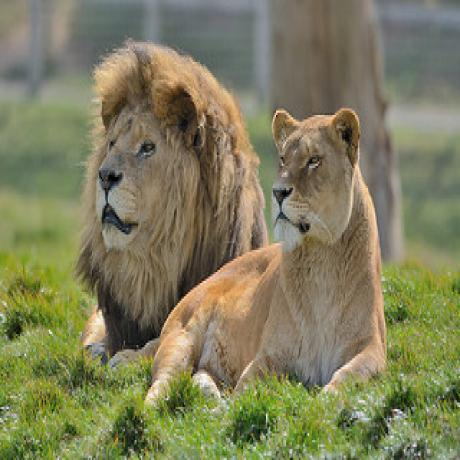Lion: (82, 15, 264, 357), (253, 97, 384, 403)
